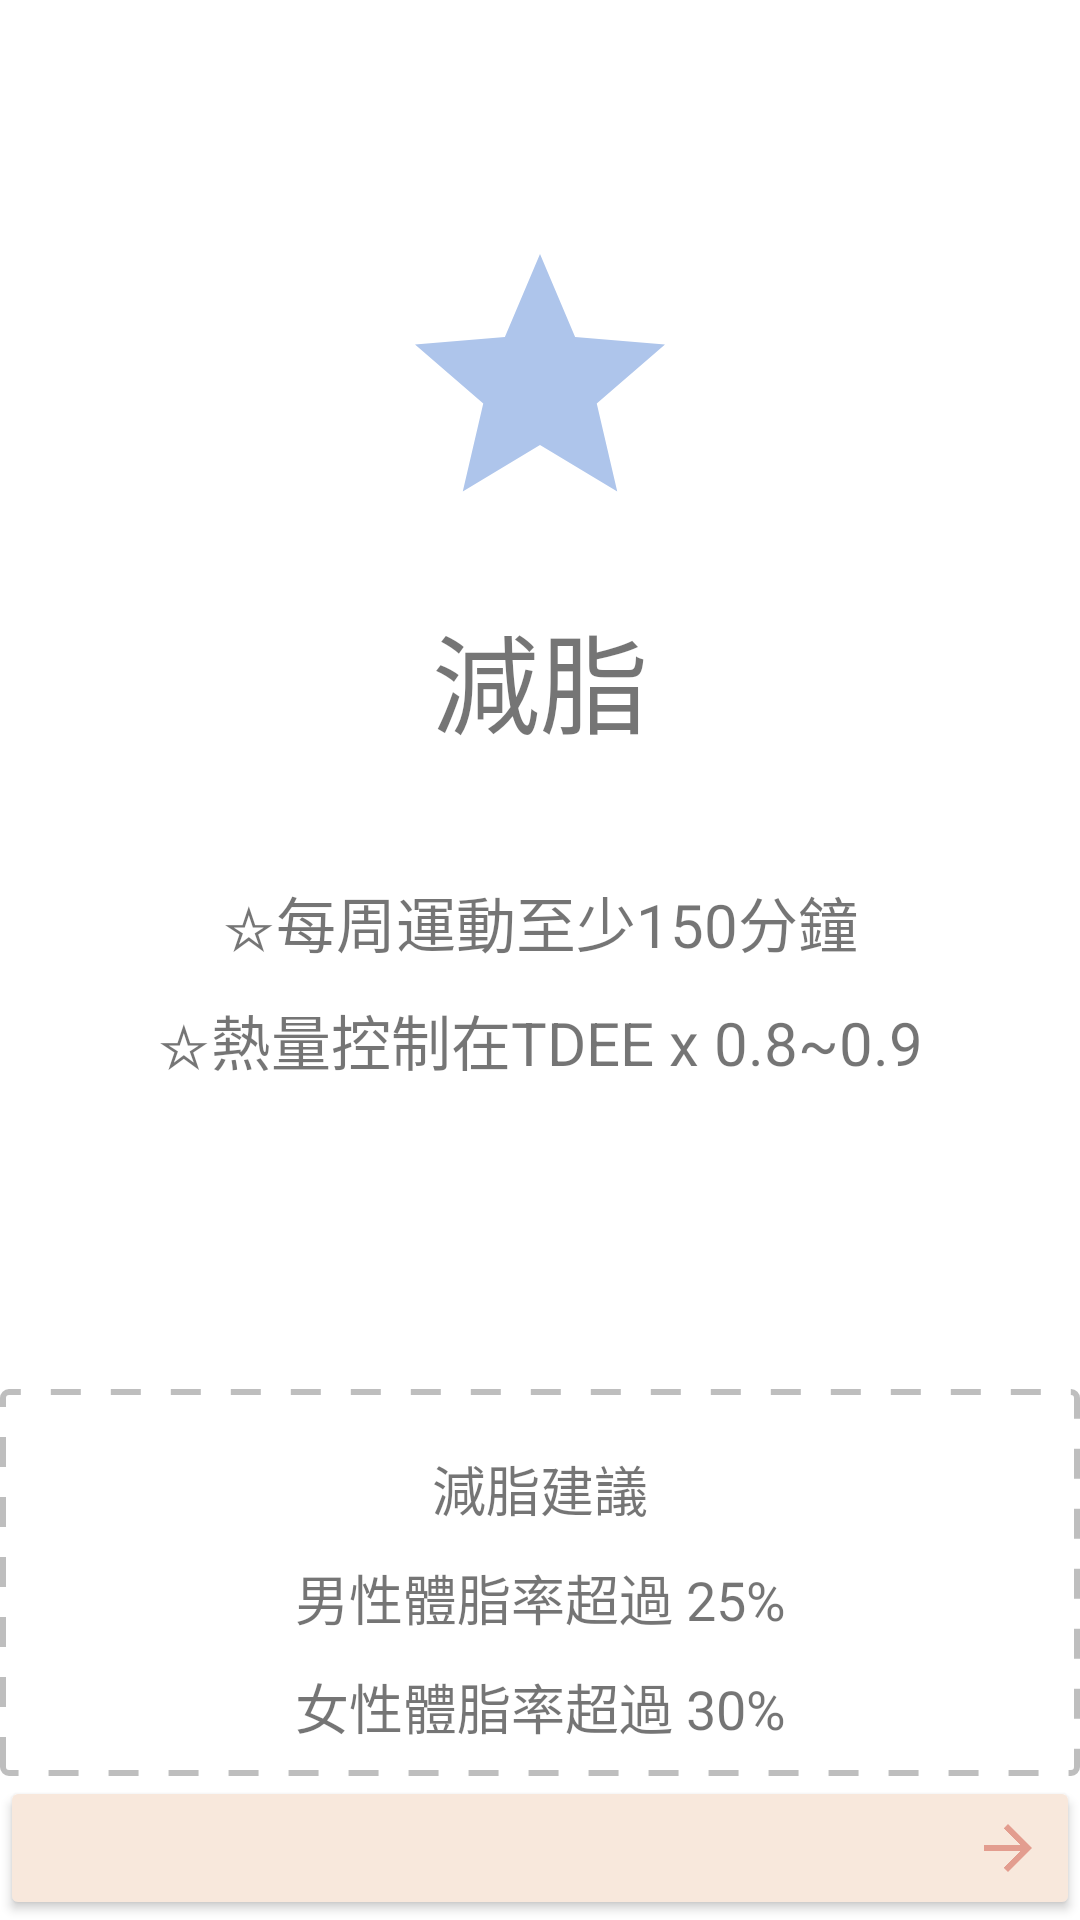

Icon click points for this 1080px×1920px phone screenshot, format [x,y]:
star: [540,373]
